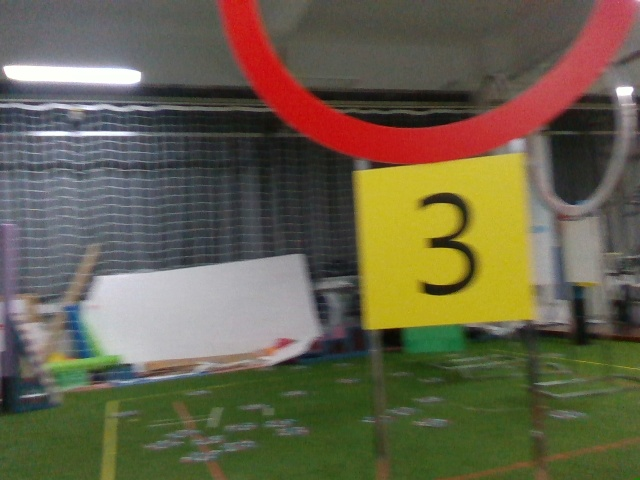target: (352, 161, 534, 321)
